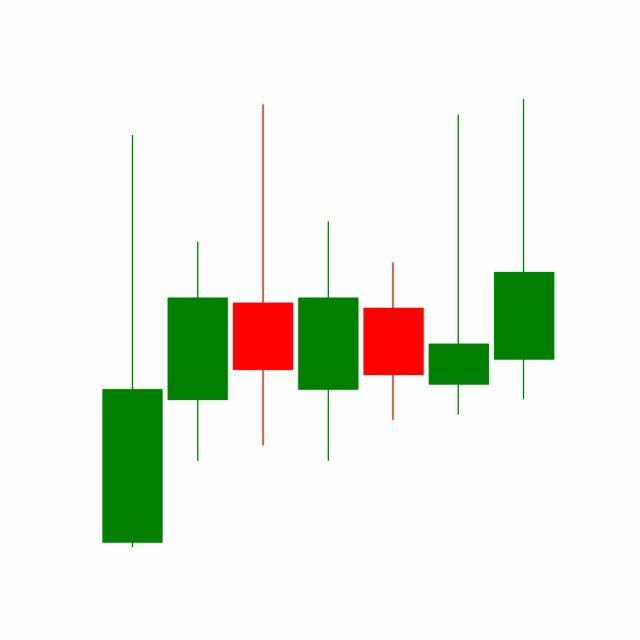Hikkake Pattern: (165, 101, 492, 466)
